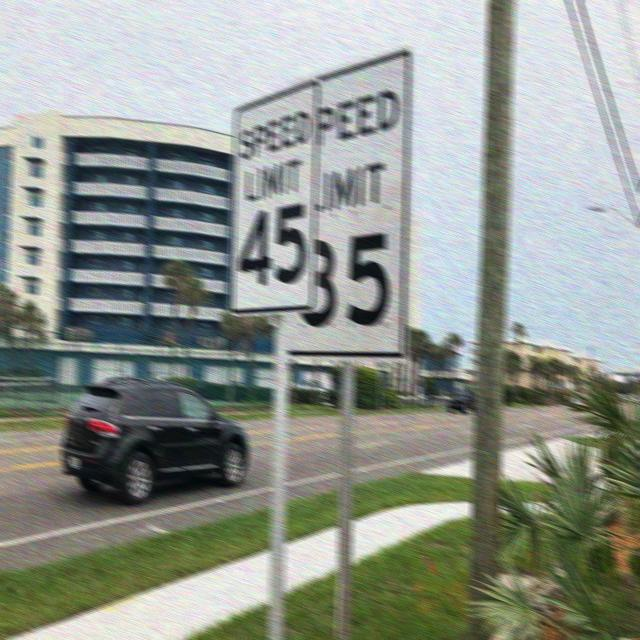speedLimit45: (227, 102, 318, 310)
